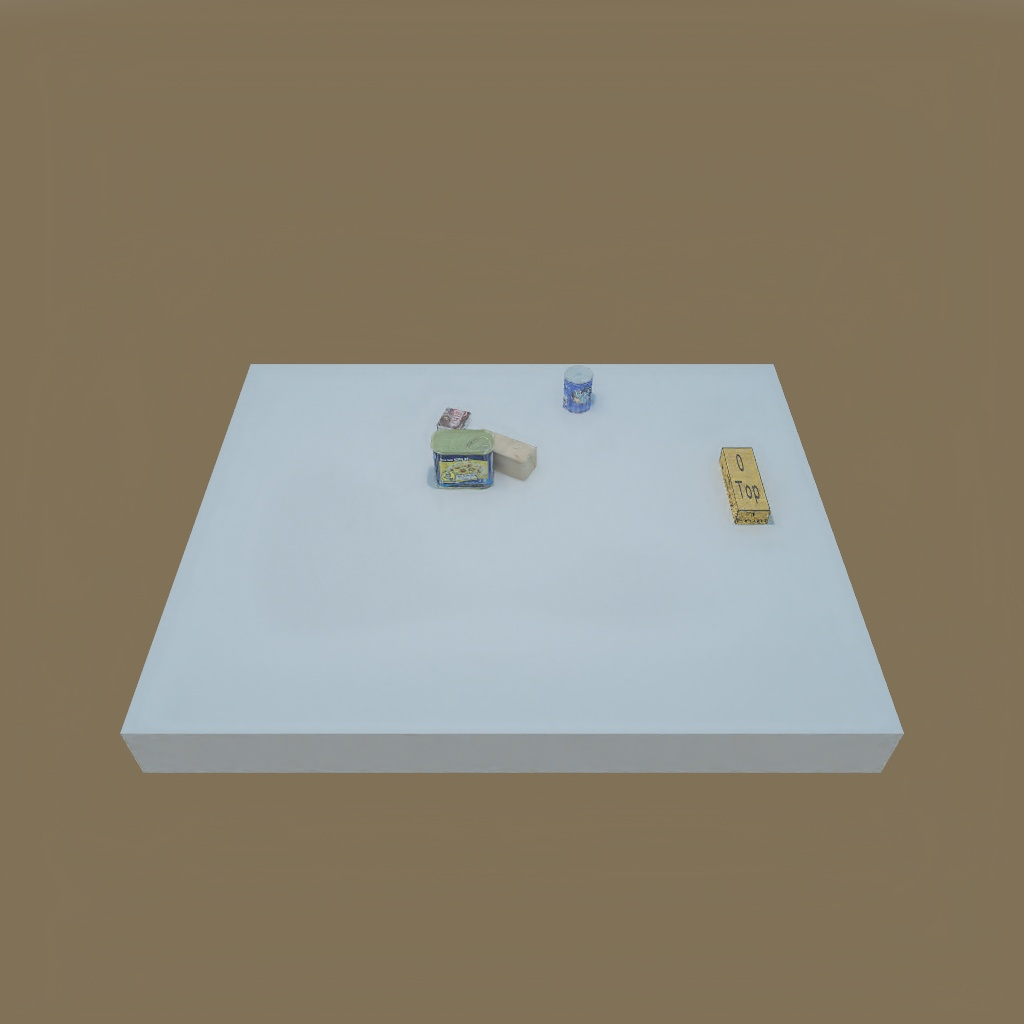jenga: (715, 444, 778, 530)
master_chef_can: (555, 373, 595, 412)
potted_meat_can: (430, 433, 497, 492)
pudding_box: (435, 404, 474, 435)
wood_block: (472, 430, 535, 477)
